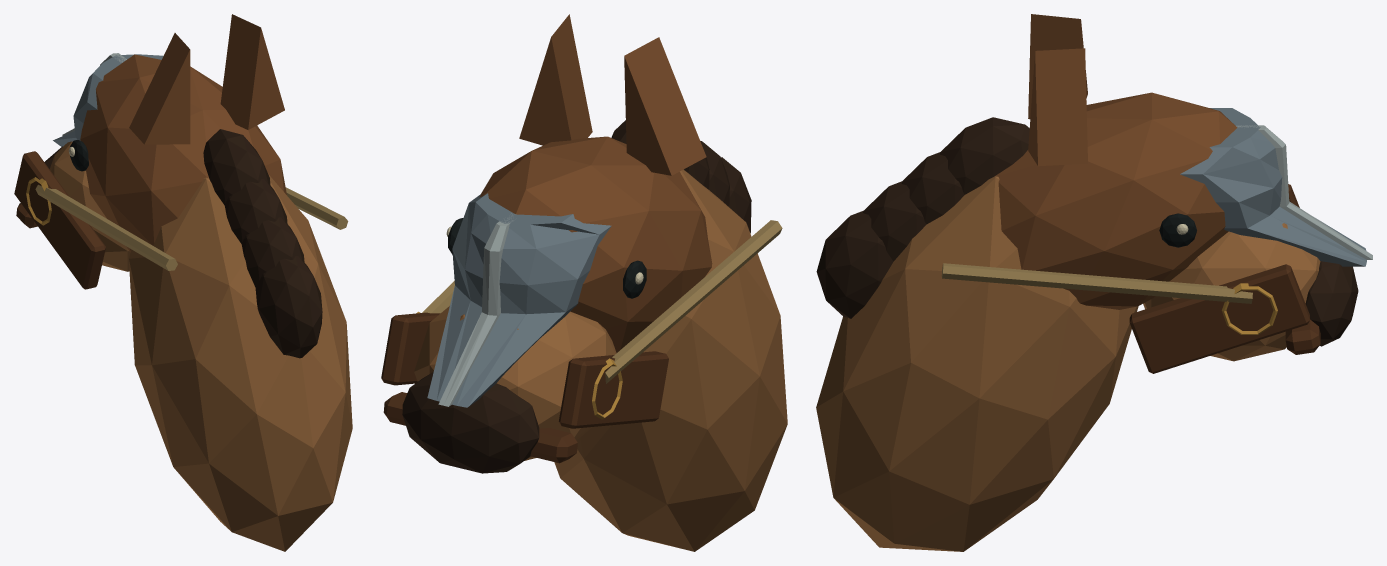
Rendered from HorseHead.glb.
3 views of the same model, side by side, from view 1: azimuth 30°, elevation 25°; view 2: azimuth 150°, elevation 25°; view 3: azimuth 270°, elevation 25° (orthographic). The views are drawn at different scales.
Visible parts, largest first — view 1: Sculpture; view 2: Sculpture; view 3: Sculpture.
Boxes of the visible parts, x1,y1,x2,y2 form: Sculpture: (14,14,352,551); Sculpture: (381,14,787,551); Sculpture: (816,14,1372,551).
Size of the model in its own units: 0.5138 by 1.25 by 1.2.
